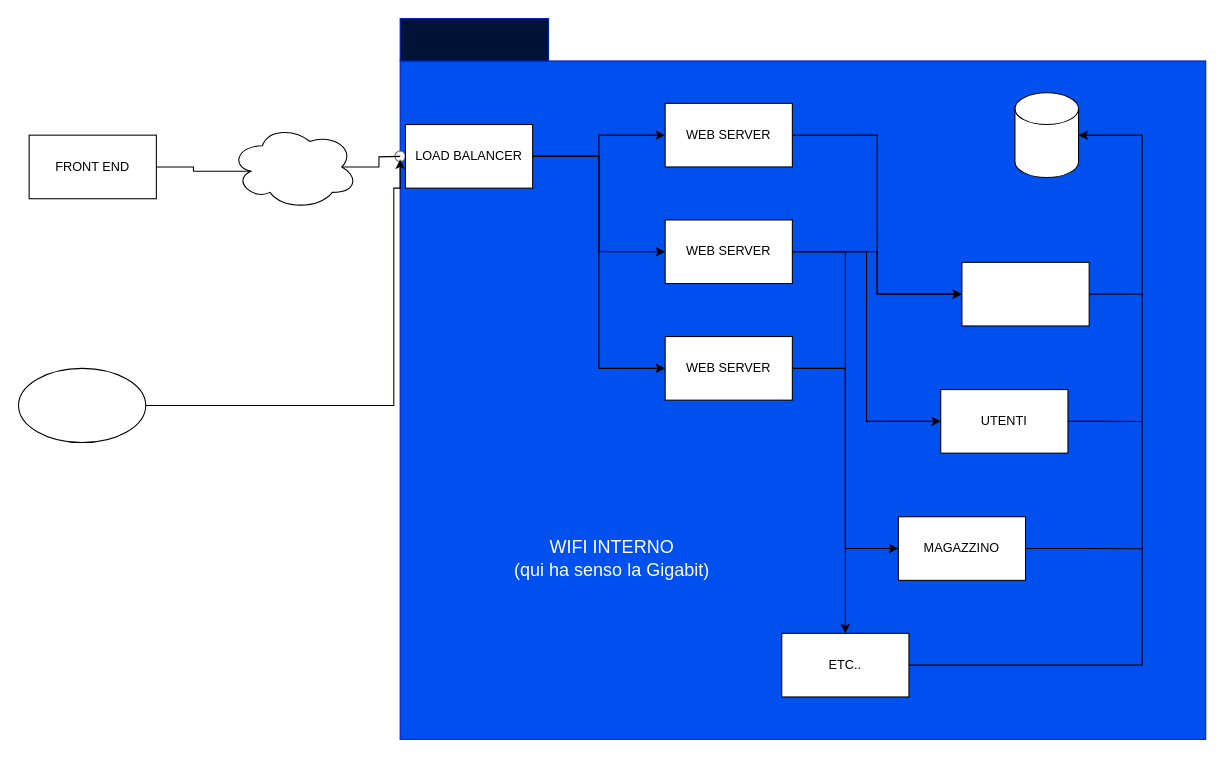
Image size: 1224x758. Some labels were removed from this diagram. The box of each missing label's shape, as (x1, y1, x2, y2) in pixels:
BACKEND: (399, 17, 549, 61)
DB: (1014, 92, 1079, 178)
INDIRIZZO IP: 172.32.170.140: (17, 367, 146, 443)
VENDITE: (961, 261, 1089, 326)
